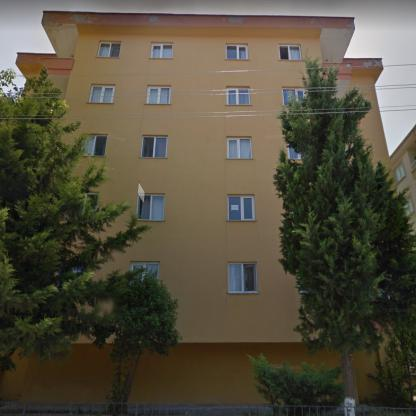window: (229, 263, 256, 291), (138, 194, 164, 220), (228, 196, 254, 219), (141, 136, 167, 157), (227, 138, 251, 158), (89, 85, 114, 103), (147, 87, 170, 104), (88, 136, 106, 156), (283, 88, 304, 105), (98, 42, 120, 58), (227, 88, 249, 104), (279, 46, 301, 60), (151, 44, 172, 58), (226, 45, 247, 59), (131, 262, 159, 271), (394, 163, 405, 182), (288, 148, 300, 158)
